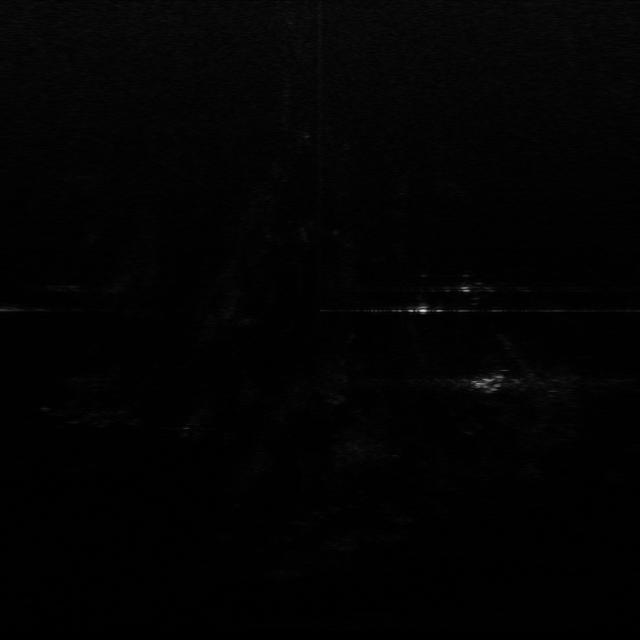rov: (468, 372, 511, 397)
